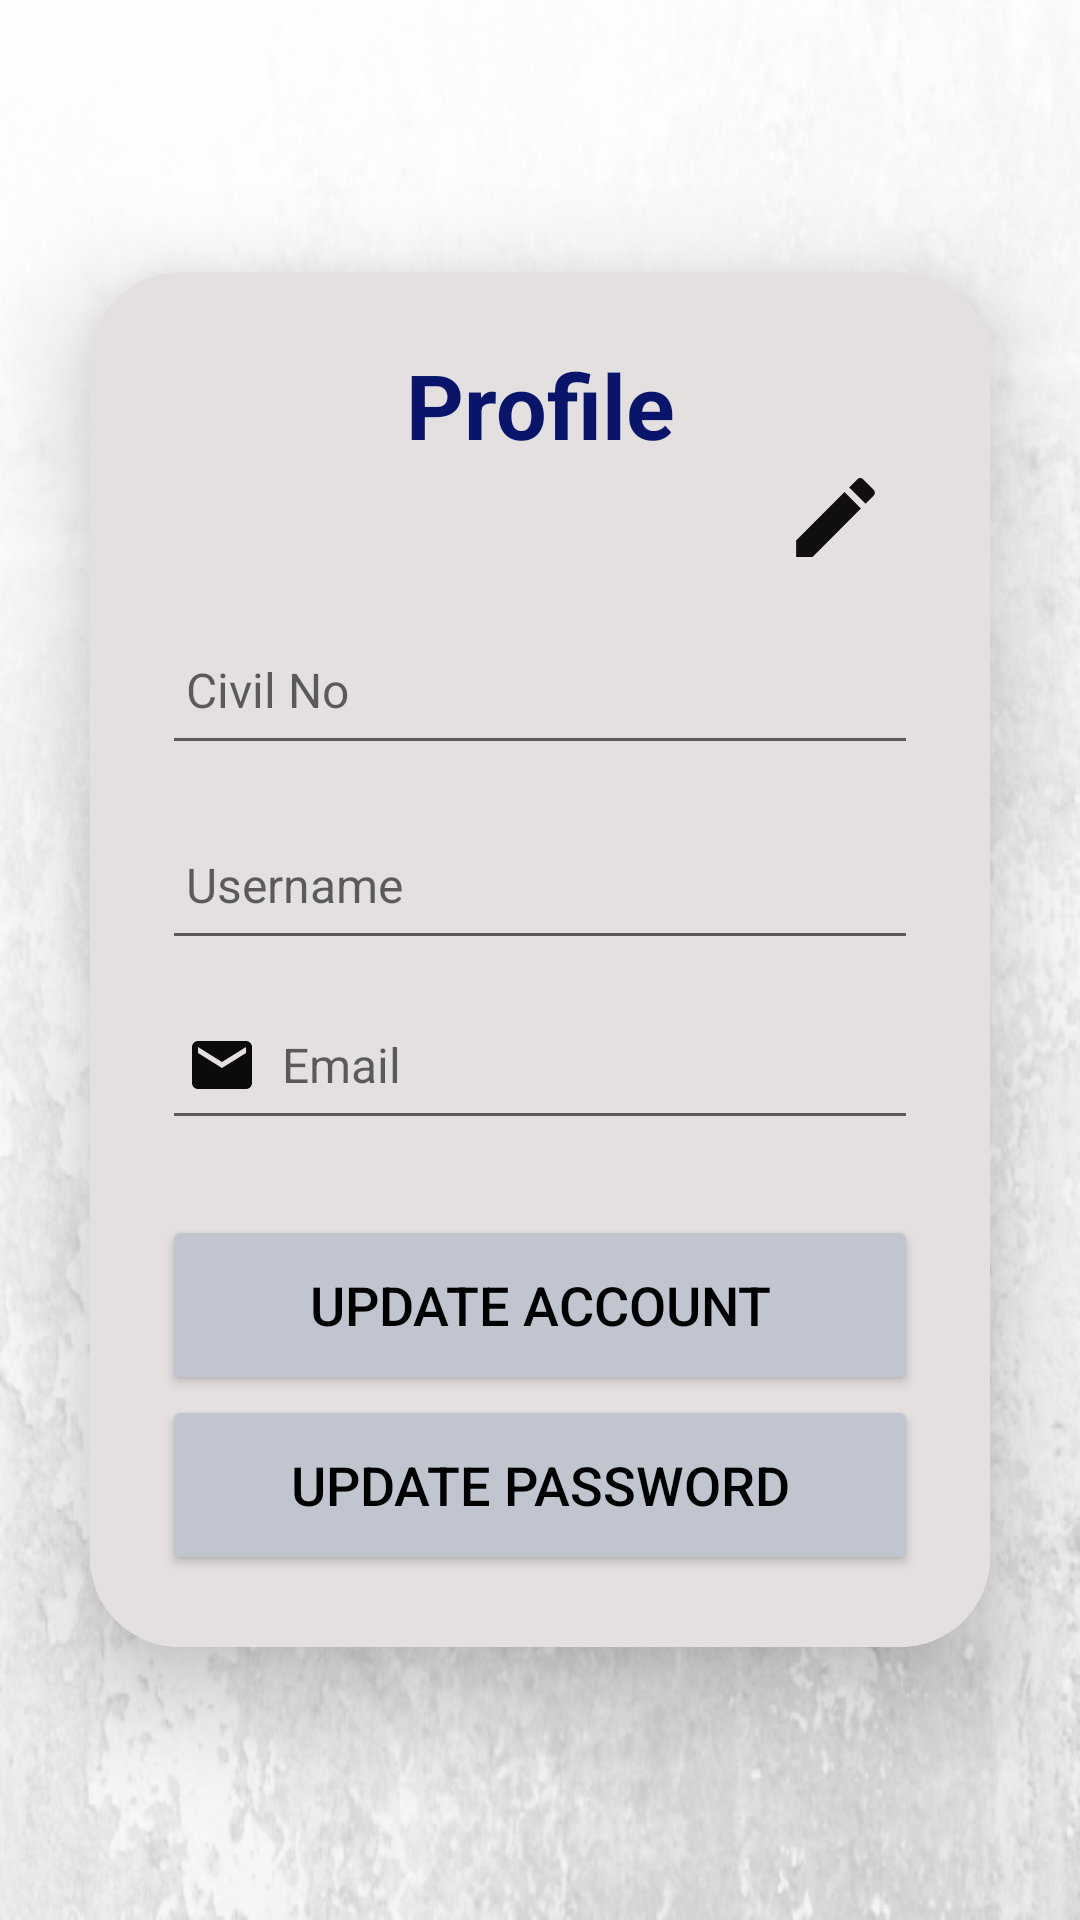

Screen size 1080 × 1920. Icon name, then its box in pixels as bbox=[x1, y1, x2, y2]:
create: bbox=[796, 478, 875, 557]
